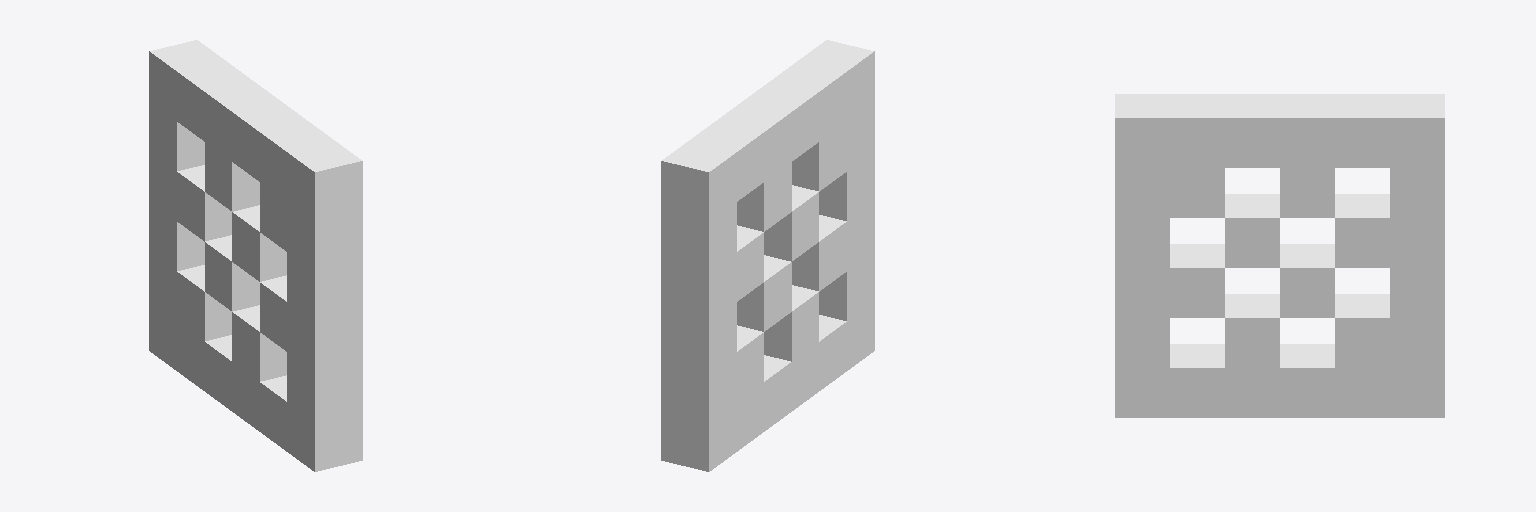
Rendered from SurroundedVGrate.obj.
3 renders of one model, left to right at view 1: azimuth 30°, elevation 25°; view 2: azimuth 150°, elevation 25°; view 3: azimuth 270°, elevation 25°, orthographic.
Visible parts, largest first — view 1: object 1; view 2: object 1; view 3: object 1.
Part boxes in pixels (left/top/right/bottom): object 1: left=149, top=40, right=362, bottom=471; object 1: left=661, top=40, right=874, bottom=471; object 1: left=1115, top=94, right=1444, bottom=417.
Bounding box in the file's own units: 0.1 × 0.6 × 0.6.